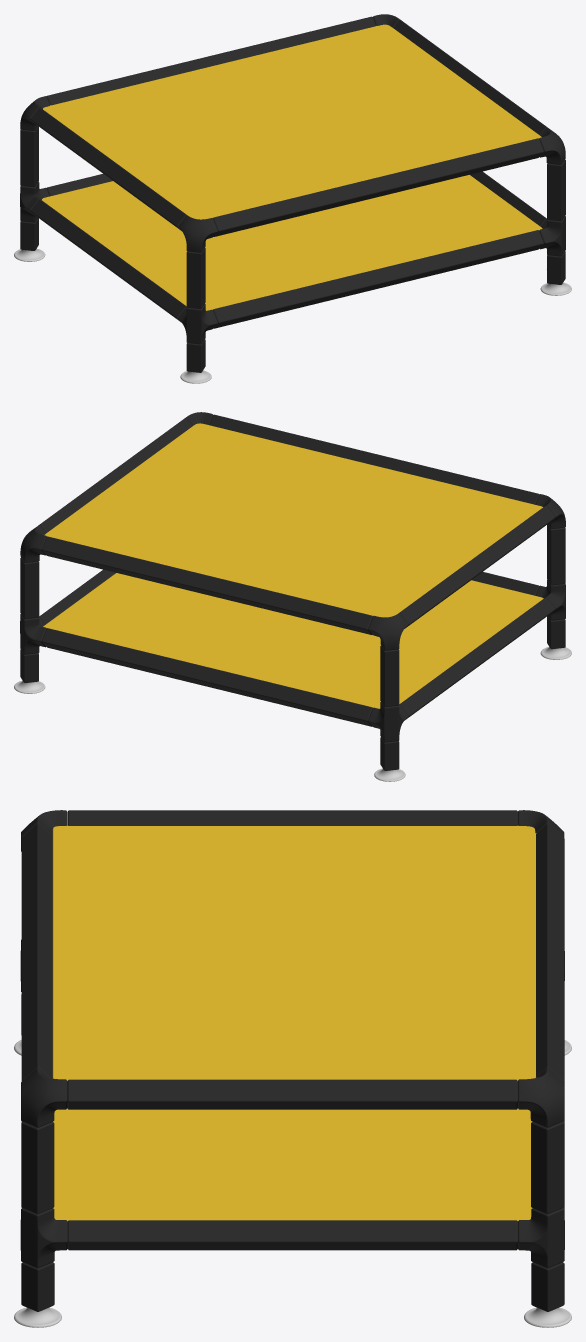
3 views of the same model, one above another, from view 1: azimuth 30°, elevation 25°; view 2: azimuth 150°, elevation 25°; view 3: azimuth 270°, elevation 25° (orthographic). The views are drawn at different scales.
Parts seen in each view (by area): view 1: 479x374x79; view 2: 479x374x79; view 3: 479x374x79.
Boxes of the visible parts, x1=… form: 479x374x79: x1=14, y1=14, x2=571, y2=383; 479x374x79: x1=14, y1=412, x2=571, y2=781; 479x374x79: x1=14, y1=810, x2=571, y2=1327.
Bounding box in the file's own units: 0.5689 × 0.2183 × 0.4632.
